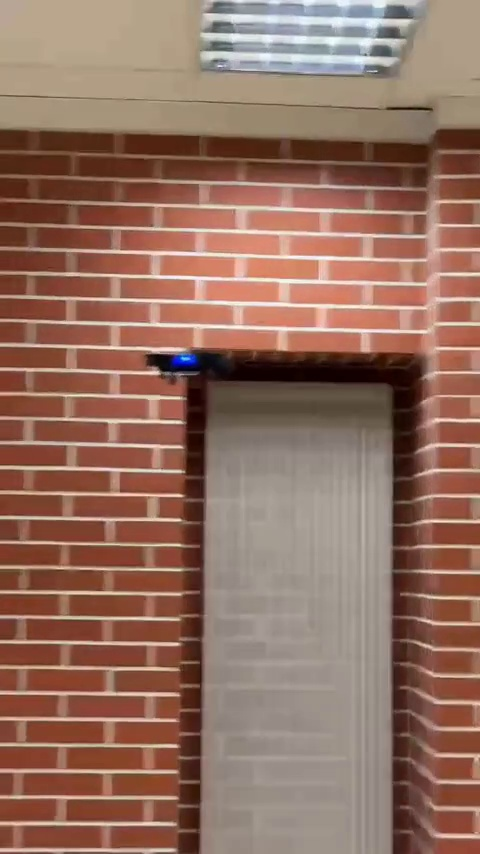drone: (144, 348, 233, 382)
